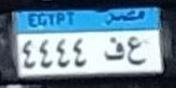4: (20, 39, 37, 71), (71, 37, 89, 67), (54, 37, 70, 68), (38, 38, 54, 68)
ain: (126, 35, 147, 67)
faa: (103, 35, 125, 63)
